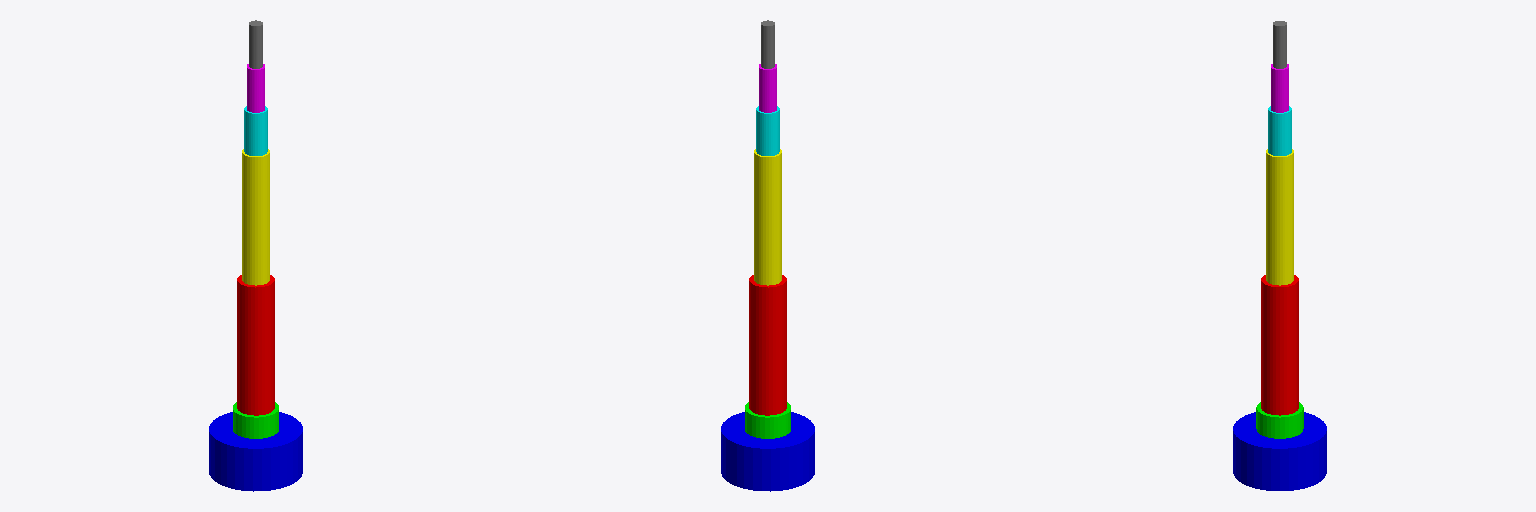
URDF robot description (generic_6dof_arm):
<?xml version="1.0"?>
<robot name="generic_6dof_arm">
  <!-- Base Link -->
  <link name="base_link">
    <visual>
      <geometry>
        <cylinder length="0.1" radius="0.1"/>
      </geometry>
      <material name="blue">
        <color rgba="0 0 1 1"/>
      </material>
    </visual>
  </link>

  <!-- Joint 1: Base rotation (Pan) -->
  <joint name="joint1" type="revolute">
    <parent link="base_link"/>
    <child link="link1"/>
    <origin xyz="0 0 0.05" rpy="0 0 0"/>
    <axis xyz="0 0 1"/>
    <limit lower="-3.14159" upper="3.14159" effort="10.0" velocity="1.0"/>
  </joint>

  <link name="link1">
    <visual>
      <geometry>
        <cylinder length="0.1" radius="0.05"/>
      </geometry>
      <material name="green">
        <color rgba="0 1 0 1"/>
      </material>
    </visual>
  </link>

  <!-- Joint 2: Shoulder (Tilt) -->
  <joint name="joint2" type="revolute">
    <parent link="link1"/>
    <child link="link2"/>
    <origin xyz="0 0 0.05" rpy="0 0 0"/>
    <axis xyz="0 1 0"/>
    <limit lower="-3.14159" upper="3.14159" effort="10.0" velocity="1.0"/>
  </joint>

  <link name="link2">
    <visual>
      <origin xyz="0 0 0.15" rpy="0 0 0"/>
      <geometry>
        <cylinder length="0.3" radius="0.04"/>
      </geometry>
      <material name="red">
        <color rgba="1 0 0 1"/>
      </material>
    </visual>
  </link>

  <!-- Joint 3: Elbow (Tilt) -->
  <joint name="joint3" type="revolute">
    <parent link="link2"/>
    <child link="link3"/>
    <origin xyz="0 0 0.3" rpy="0 0 0"/>
    <axis xyz="0 1 0"/>
    <limit lower="-3.14159" upper="3.14159" effort="10.0" velocity="1.0"/>
  </joint>

  <link name="link3">
    <visual>
      <origin xyz="0 0 0.15" rpy="0 0 0"/>
      <geometry>
        <cylinder length="0.3" radius="0.03"/>
      </geometry>
      <material name="yellow">
        <color rgba="1 1 0 1"/>
      </material>
    </visual>
  </link>

  <!-- Joint 4: Wrist 1 (Roll) -->
  <joint name="joint4" type="revolute">
    <parent link="link3"/>
    <child link="link4"/>
    <origin xyz="0 0 0.3" rpy="0 0 0"/>
    <axis xyz="0 0 1"/>
    <limit lower="-3.14159" upper="3.14159" effort="10.0" velocity="1.0"/>
  </joint>

  <link name="link4">
    <visual>
      <origin xyz="0 0 0.05" rpy="0 0 0"/>
      <geometry>
        <cylinder length="0.1" radius="0.025"/>
      </geometry>
      <material name="cyan">
        <color rgba="0 1 1 1"/>
      </material>
    </visual>
  </link>

  <!-- Joint 5: Wrist 2 (Tilt) -->
  <joint name="joint5" type="revolute">
    <parent link="link4"/>
    <child link="link5"/>
    <origin xyz="0 0 0.1" rpy="0 0 0"/>
    <axis xyz="0 1 0"/>
    <limit lower="-3.14159" upper="3.14159" effort="10.0" velocity="1.0"/>
  </joint>

  <link name="link5">
    <visual>
      <origin xyz="0 0 0.05" rpy="0 0 0"/>
      <geometry>
        <cylinder length="0.1" radius="0.02"/>
      </geometry>
      <material name="magenta">
        <color rgba="1 0 1 1"/>
      </material>
    </visual>
  </link>

  <!-- Joint 6: Wrist 3 (Roll) -->
  <joint name="joint6" type="revolute">
    <parent link="link5"/>
    <child link="hand"/>
    <origin xyz="0 0 0.1" rpy="0 0 0"/>
    <axis xyz="0 0 1"/>
    <limit lower="-3.14159" upper="3.14159" effort="10.0" velocity="1.0"/>
  </joint>

  <link name="hand">
    <visual>
      <origin xyz="0 0 0.05" rpy="0 0 0"/>
      <geometry>
        <cylinder length="0.1" radius="0.015"/>
      </geometry>
      <material name="grey">
        <color rgba="0.5 0.5 0.5 1"/>
      </material>
    </visual>
  </link>

</robot>

--- What the picture shows (computed from the rendered views, not written in the file) ---
Views: 3 orthographic renders of the robot side by side, from view 1: azimuth 30°, elevation 25°; view 2: azimuth 150°, elevation 25°; view 3: azimuth 270°, elevation 25°.
Robot: generic_6dof_arm — 7 links, 6 joints (6 revolute); root link base_link; default pose: every joint at zero.
Visible links, largest first — view 1: base_link, link2, link3, link1, link4, link5, hand; view 2: base_link, link2, link3, link1, link4, link5, hand; view 3: base_link, link2, link3, link1, link4, link5, hand.
Link boxes in pixels (x1,y1,x2,y2): base_link: (209, 412, 302, 491); link2: (237, 275, 274, 415); link3: (242, 149, 269, 285); link1: (233, 402, 278, 438); link4: (244, 106, 267, 155); link5: (247, 64, 264, 112); hand: (249, 20, 262, 68); base_link: (721, 412, 814, 491); link2: (749, 275, 786, 415); link3: (754, 149, 781, 285); link1: (745, 402, 790, 438); link4: (756, 106, 779, 155); link5: (759, 64, 776, 112); hand: (761, 20, 774, 68); base_link: (1233, 412, 1326, 490); link2: (1261, 275, 1298, 415); link3: (1266, 149, 1293, 285); link1: (1256, 402, 1303, 438); link4: (1268, 106, 1291, 155); link5: (1271, 64, 1288, 112); hand: (1273, 21, 1286, 68).
Size in the robot's own frame: 0.2 by 0.2 by 1.05 metres.
Geometry: primitives only (box / cylinder / sphere), no mesh files.
